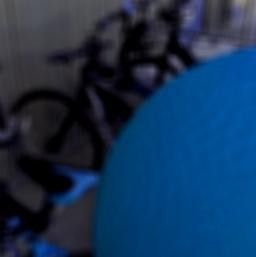algae: (90, 40, 256, 257)
